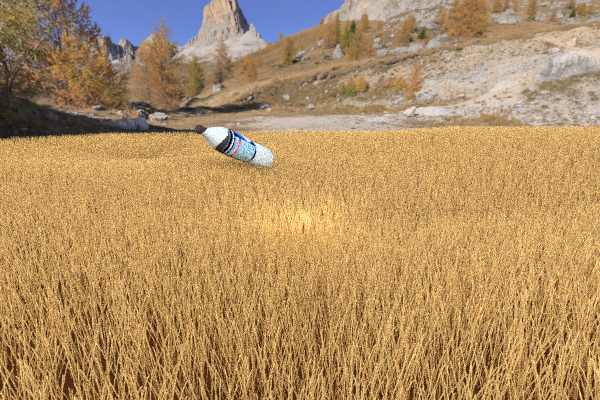Plastic Bottle: (194, 124, 274, 169), (335, 122, 386, 158), (578, 123, 600, 155)
